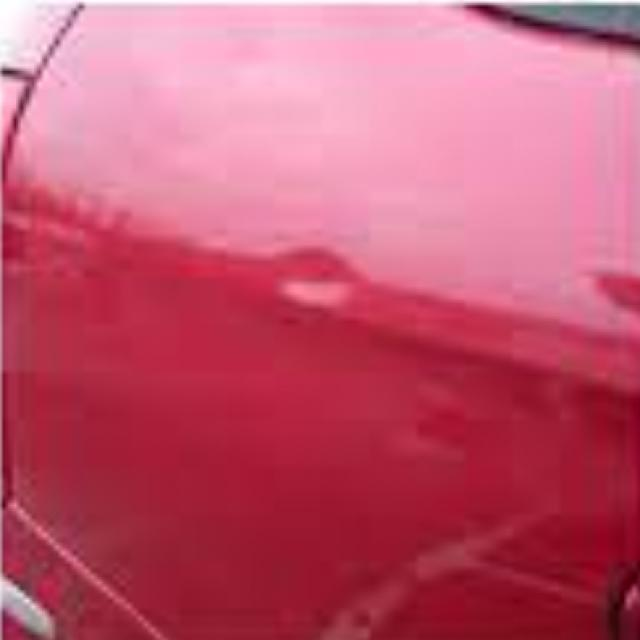dents: (262, 231, 428, 340)
